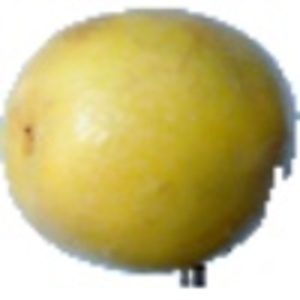maracujá: (1, 5, 300, 289)
